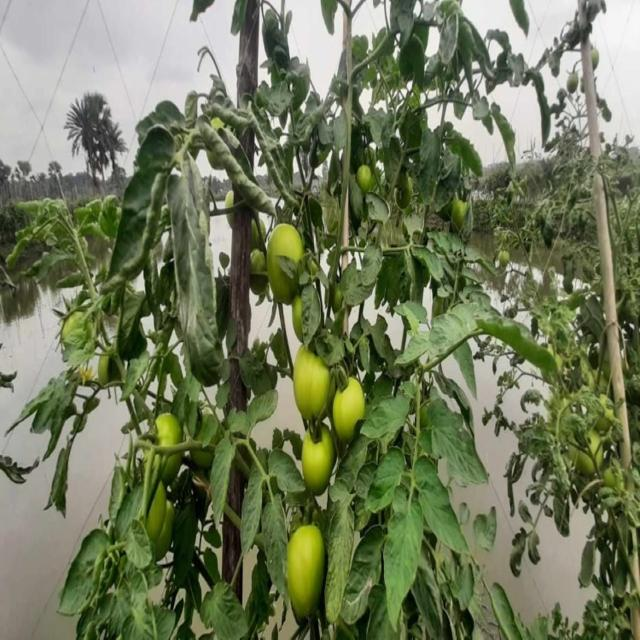tomato: (286, 521, 325, 618), (297, 347, 333, 422), (330, 377, 367, 442), (303, 433, 336, 494), (148, 487, 175, 548), (271, 219, 303, 262), (61, 303, 90, 344), (154, 411, 183, 448), (287, 290, 306, 333), (453, 195, 475, 230), (360, 161, 375, 190), (223, 187, 239, 212), (496, 246, 512, 270)
